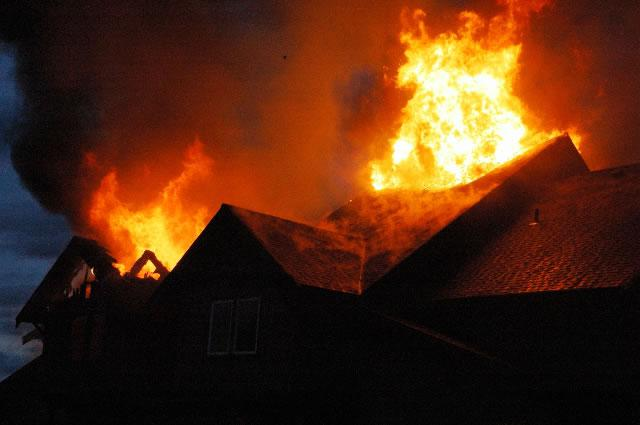fire: (379, 5, 567, 207), (83, 158, 218, 274)
